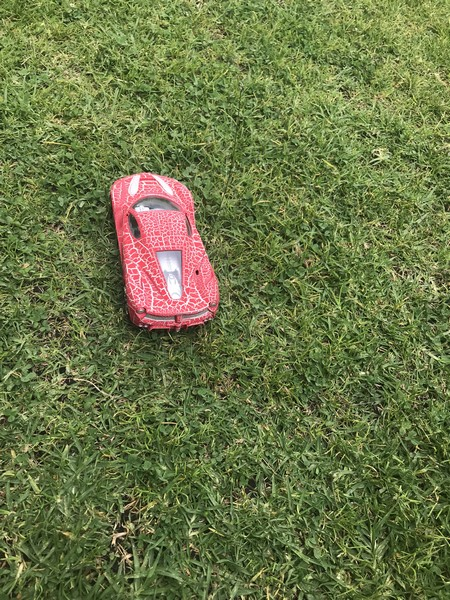RC: (108, 170, 222, 336)
